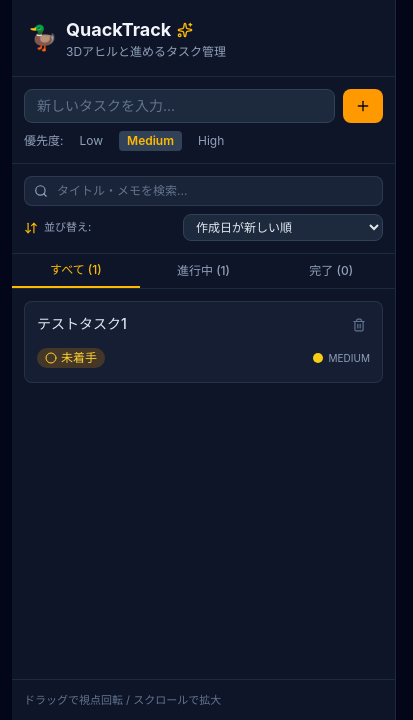
Test: TaskPanel Component › タスク削除と Undo Toast 通知 › 削除ボタンを押すとタスクが消去され、元に戻すToastが表示される
This screenshot has width=413, height=720.
Check: the text "テストタスク1" is shown, box [37,315,127,332]
Click the button with test id "delete-task-test-1" at (359, 325), box [348,314,370,336]
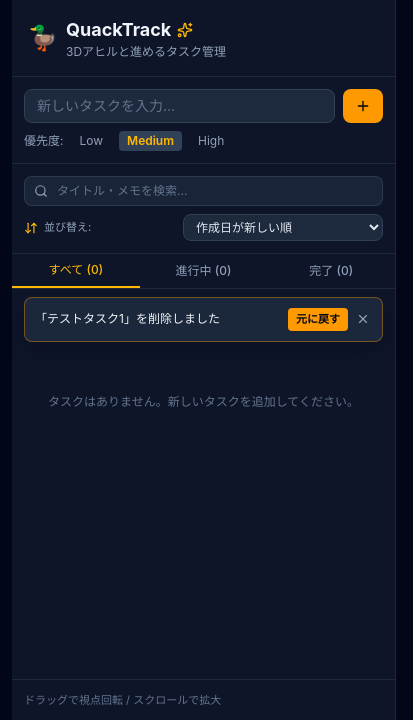
Check: the message "「テストタスク1」を削除しました 元に戻す" is shown, box [24,297,383,342]
Check: the message with test id "undo-toast" shows "「テストタスク1」を削除しました", box [35,311,220,326]
Check: the button with test id "undo-delete-button" is shown, box [288,308,348,331]
